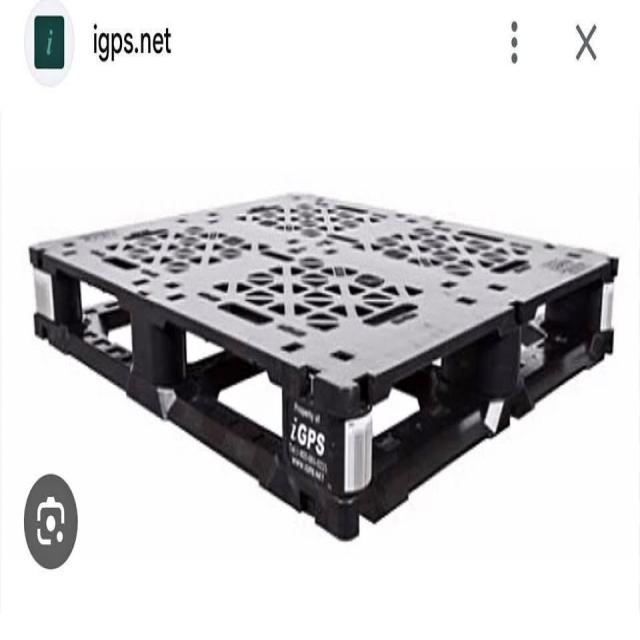igps: (13, 170, 628, 554)
